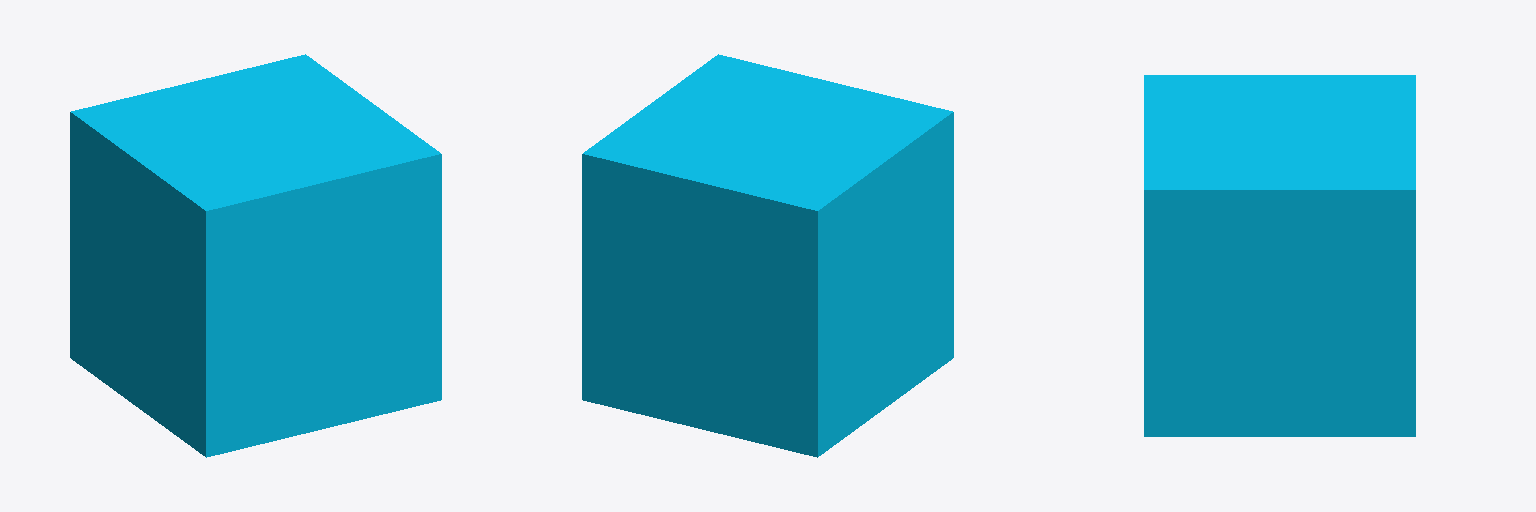
The model's file is bengfang.obj.
3 views of the same model, side by side, from view 1: azimuth 30°, elevation 25°; view 2: azimuth 150°, elevation 25°; view 3: azimuth 270°, elevation 25° (orthographic).
Parts seen in each view (by area): view 1: outbox; view 2: outbox; view 3: outbox.
Part boxes in pixels (left/top/right/bottom): outbox: left=70, top=54, right=441, bottom=457; outbox: left=582, top=54, right=953, bottom=457; outbox: left=1144, top=75, right=1415, bottom=436.
Bounding box in the file's own units: 50 × 50 × 50.